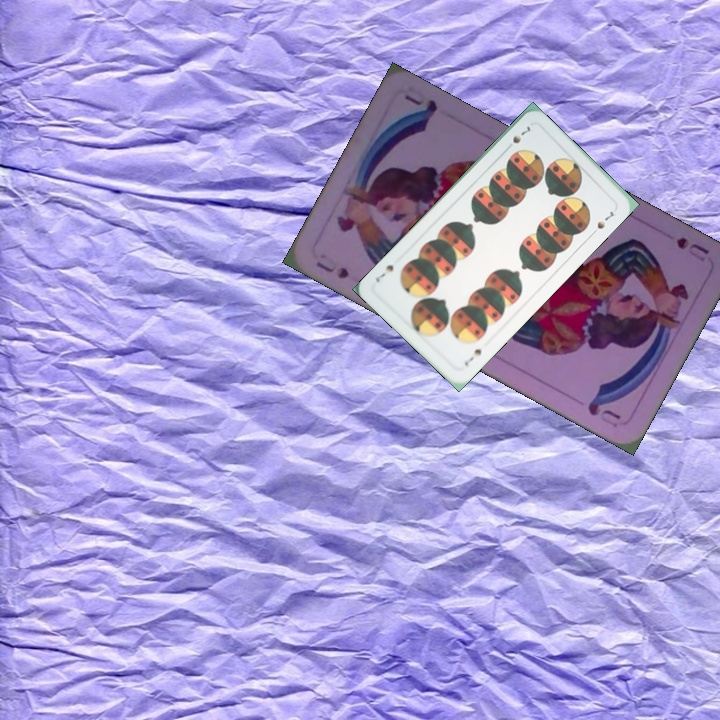S7: (502, 122, 533, 153), (460, 344, 484, 369)
SU: (311, 251, 352, 282), (672, 233, 712, 258)
